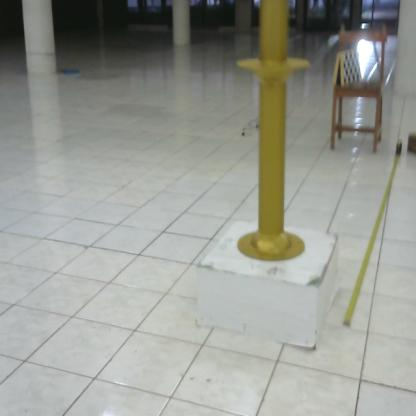pole: (227, 1, 316, 269)
